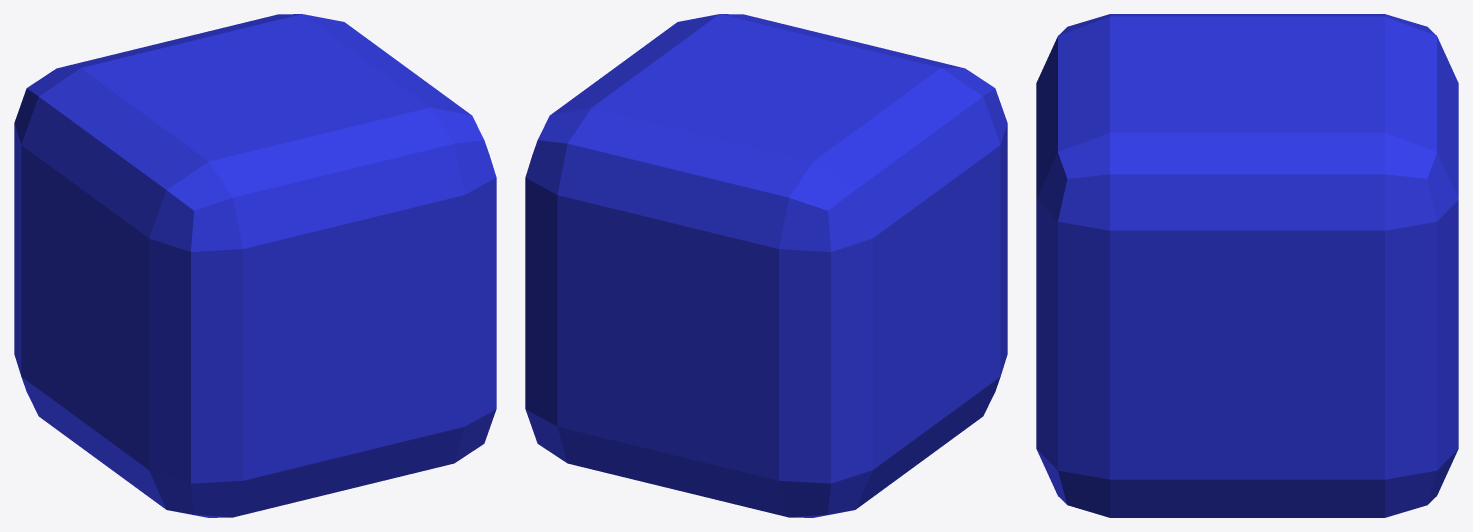
The model's file is objetivo.fbx.
3 renders of one model, left to right at view 1: azimuth 30°, elevation 25°; view 2: azimuth 150°, elevation 25°; view 3: azimuth 270°, elevation 25°, orthographic. The views are drawn at different scales.
Parts seen in each view (by area): view 1: Cube; view 2: Cube; view 3: Cube.
Boxes of the visible parts, x1,y1,x2,y2 form: Cube: (14,14,496,517); Cube: (525,14,1007,517); Cube: (1036,14,1458,517).
Bounding box in the file's own units: 50 × 50 × 50.
